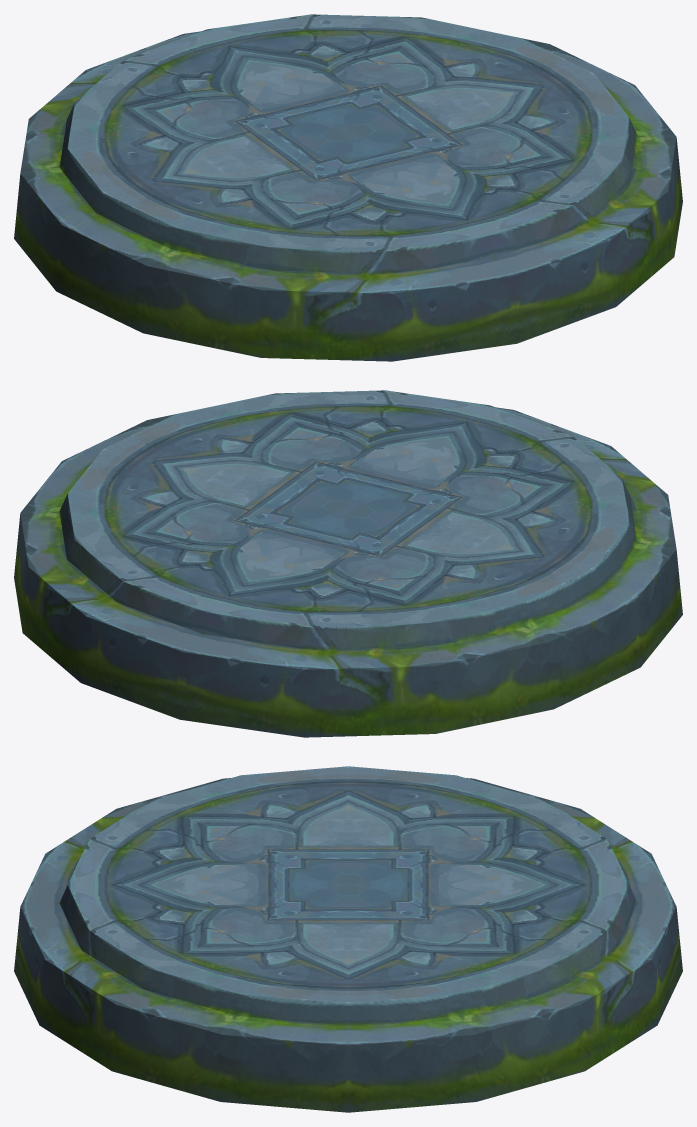
The model's file is fb_tys_zj_01_c.FBX.
3 renders of one model, top to bottom at view 1: azimuth 30°, elevation 25°; view 2: azimuth 150°, elevation 25°; view 3: azimuth 270°, elevation 25°, orthographic.
Parts seen in each view (by area): view 1: fb_tys_zj_01_c; view 2: fb_tys_zj_01_c; view 3: fb_tys_zj_01_c.
Boxes of the visible parts, <box> form: fb_tys_zj_01_c: <box>14,14,682,361</box>; fb_tys_zj_01_c: <box>14,390,682,737</box>; fb_tys_zj_01_c: <box>14,766,682,1112</box>.
Bounding box in the file's own units: 1060 × 151 × 1060.
